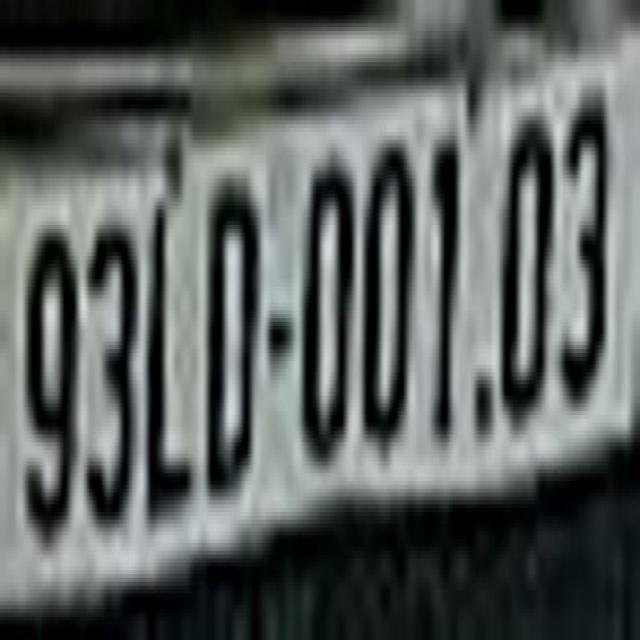0: (297, 124, 353, 484), (499, 78, 552, 442), (360, 120, 412, 454)
1: (426, 109, 460, 462)
3: (562, 93, 616, 415), (88, 202, 136, 550)
9: (24, 214, 73, 566)
D: (204, 170, 255, 504)
L: (147, 175, 195, 528)
